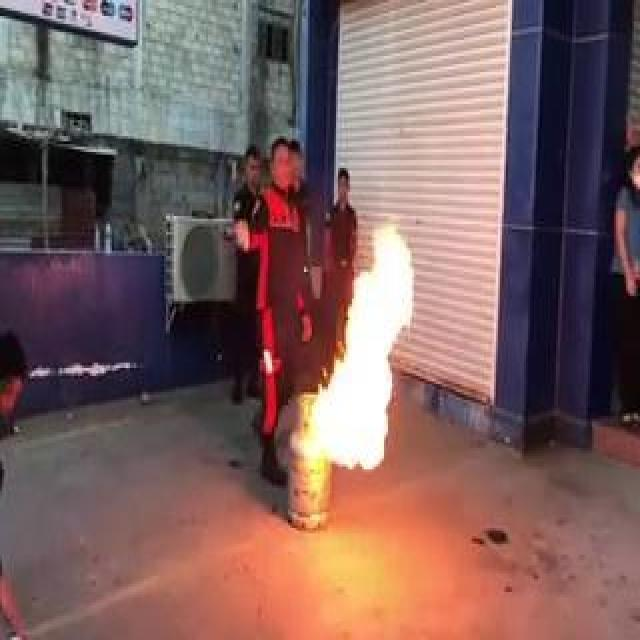Smoke: (303, 217, 415, 468)
